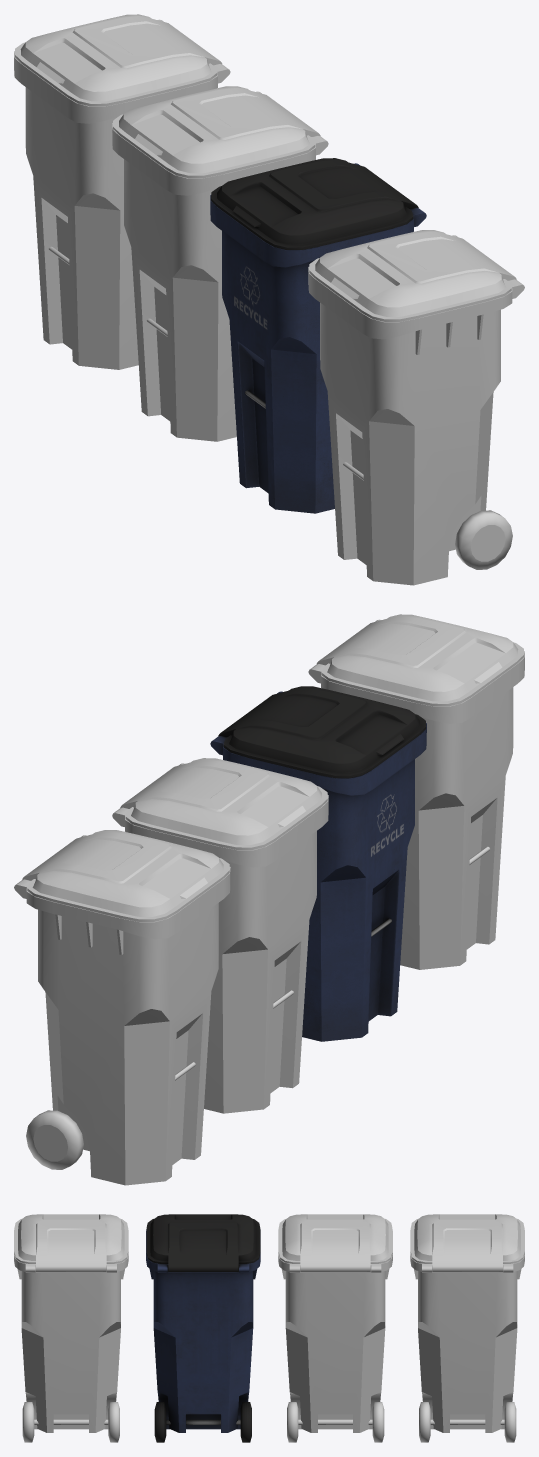
The model's file is TrashCan.fbx.
3 renders of one model, top to bottom at view 1: azimuth 30°, elevation 25°; view 2: azimuth 150°, elevation 25°; view 3: azimuth 270°, elevation 25°, orthographic. The views are drawn at different scales.
Parts seen in each view (by area): view 1: TrashCan_Green, TrashCan_Grey, TrashCan_Black, TrashCan_Blue; view 2: TrashCan_Grey, TrashCan_Green, TrashCan_Blue, TrashCan_Black; view 3: TrashCan_Black, TrashCan_Blue, TrashCan_Grey, TrashCan_Green.
Boxes of the visible parts, x1,y1,x2,y2 form: TrashCan_Green: (308,230,524,585); TrashCan_Grey: (14,14,230,369); TrashCan_Black: (112,86,328,441); TrashCan_Blue: (210,158,426,513); TrashCan_Grey: (14,830,230,1185); TrashCan_Green: (308,614,524,969); TrashCan_Blue: (210,686,426,1041); TrashCan_Black: (112,758,328,1113); TrashCan_Black: (278,1214,392,1442); TrashCan_Blue: (146,1214,260,1442); TrashCan_Grey: (410,1214,524,1442); TrashCan_Green: (14,1214,128,1442).
Size of the model in its own units: 60.83 by 113 by 263.
